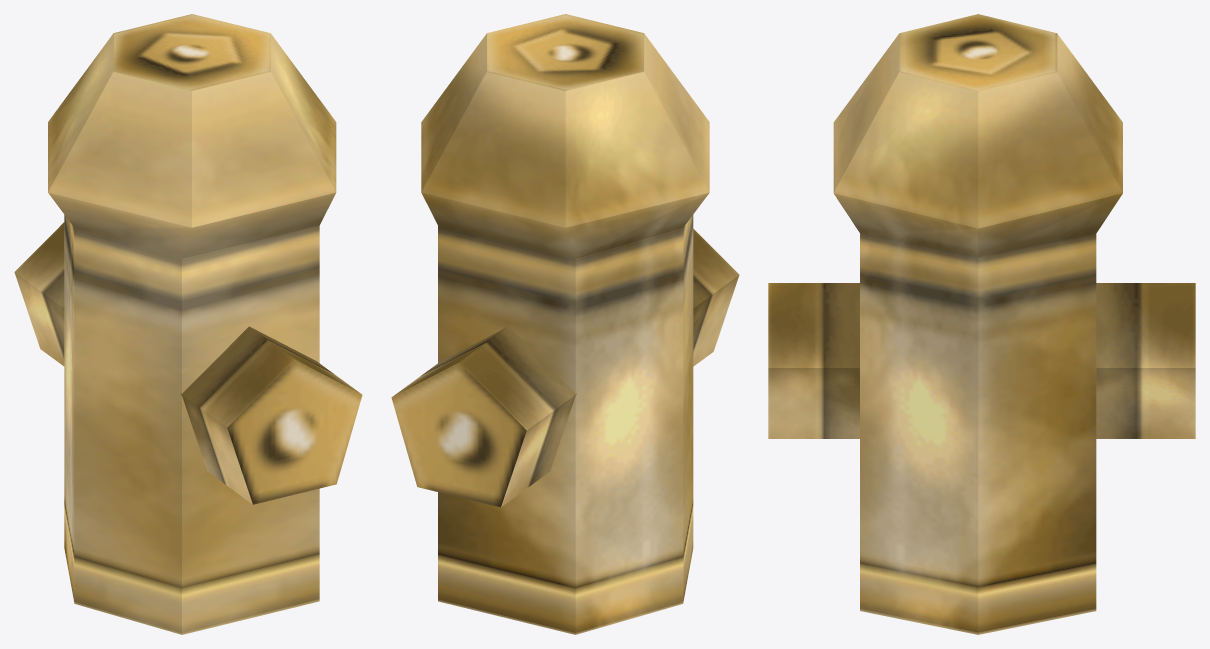
File: firehydrant.glb
The picture shows the model from 3 angles, left to right: view 1: azimuth 30°, elevation 25°; view 2: azimuth 150°, elevation 25°; view 3: azimuth 270°, elevation 25°; orthographic projection.
Visible parts, largest first — view 1: firehydrant; view 2: firehydrant; view 3: firehydrant.
Boxes of the visible parts, x1,y1,x2,y2 form: firehydrant: [14, 14, 362, 634]; firehydrant: [391, 14, 739, 634]; firehydrant: [768, 14, 1195, 634].
Bounding box in the file's own units: 55.79 × 96.62 × 71.27.
Materials: 1 (1 with a texture image).
